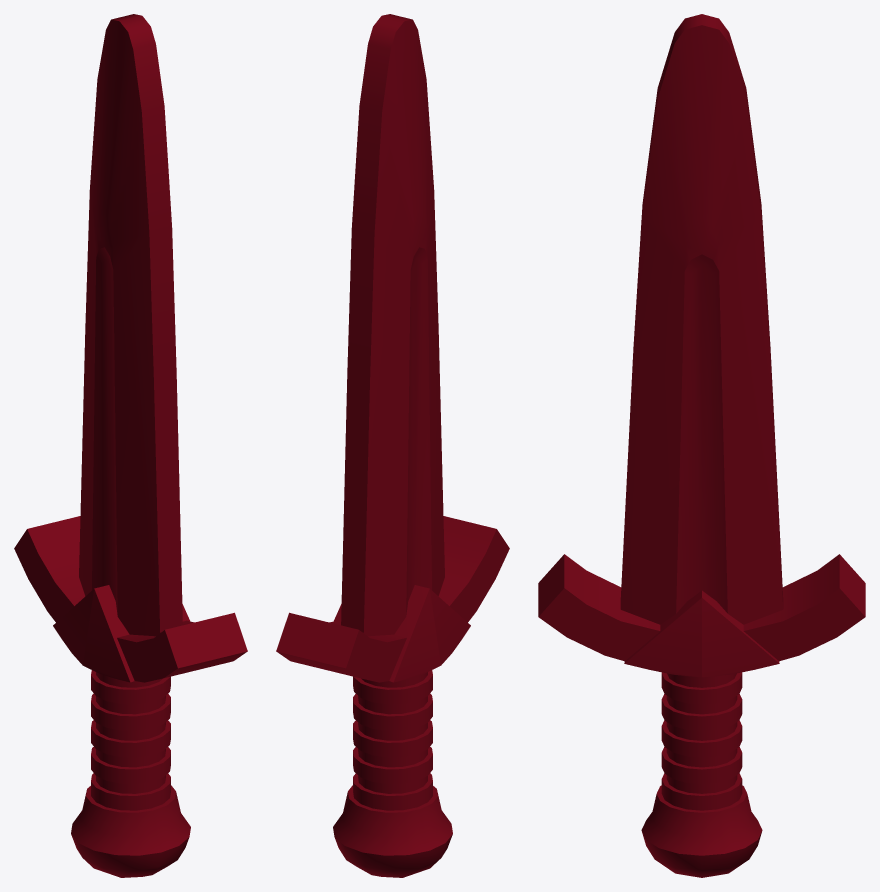
Rendered from devil-sword-2674f.41189726.glb.
3 views of the same model, side by side, from view 1: azimuth 30°, elevation 25°; view 2: azimuth 150°, elevation 25°; view 3: azimuth 270°, elevation 25° (orthographic).
Parts seen in each view (by area): view 1: part:2674f.dat:720012; view 2: part:2674f.dat:720012; view 3: part:2674f.dat:720012.
Part boxes in pixels (box(x1,y1,x2,y2)): part:2674f.dat:720012: box(14, 14, 247, 877); part:2674f.dat:720012: box(276, 14, 509, 877); part:2674f.dat:720012: box(538, 14, 865, 877).
Size of the model in its own units: 12 by 93.2 by 32.45.
